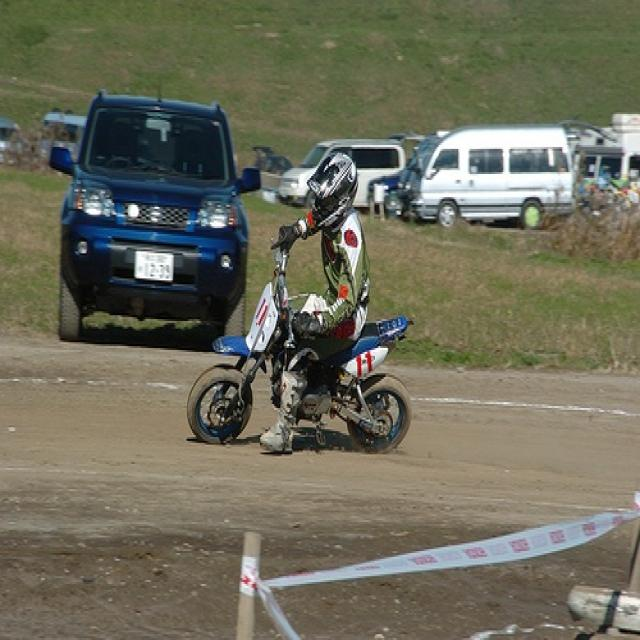car: (47, 87, 264, 344), (407, 120, 576, 230), (277, 135, 407, 207)
motorbike: (184, 234, 413, 456)
